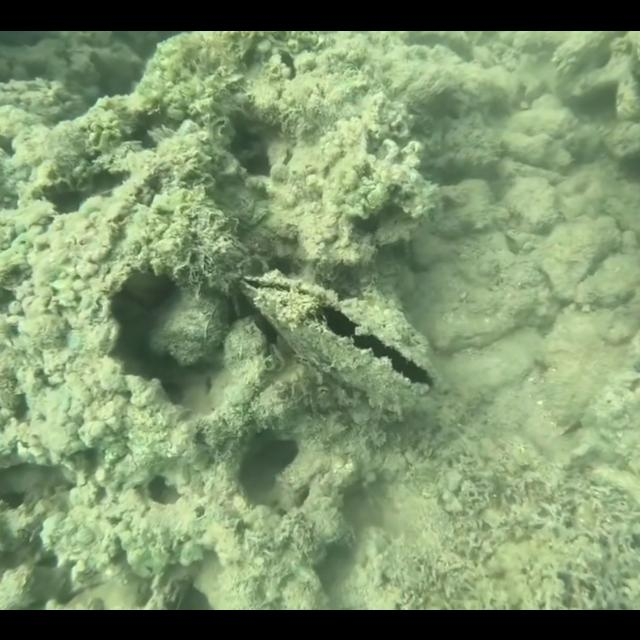Oyster-Open: (238, 266, 440, 414)
